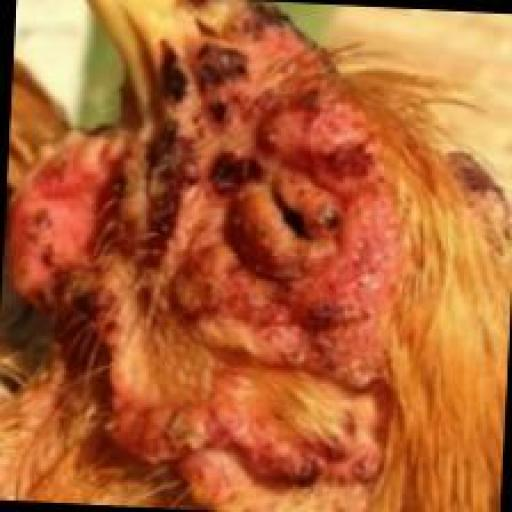disease: (0, 20, 413, 506)
